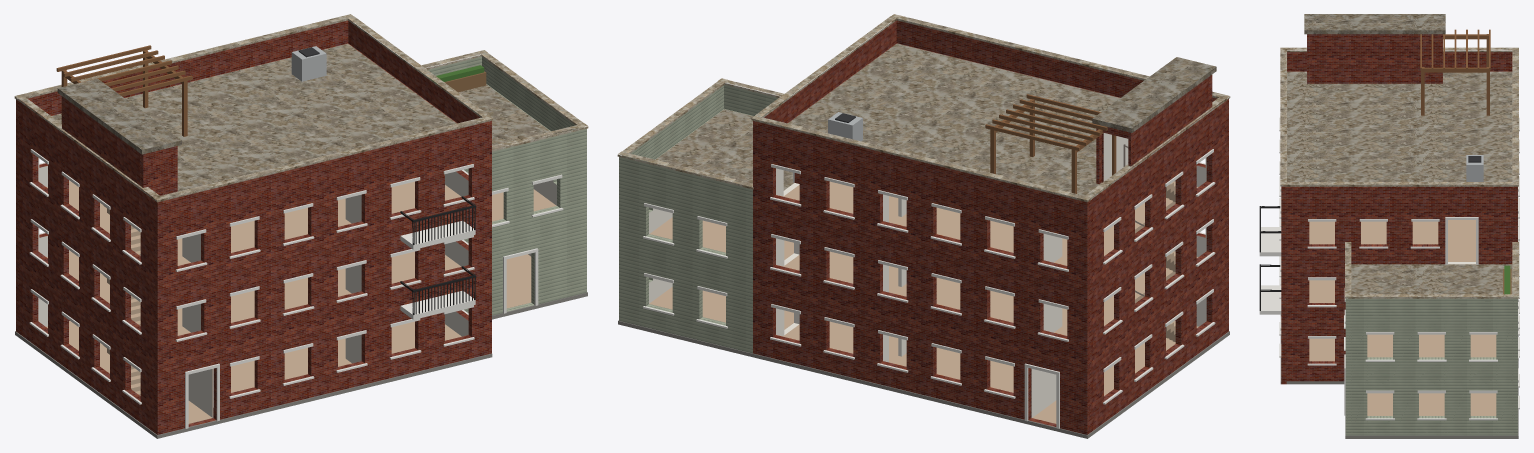
The model's file is ns-garden-apartments.towns-v2.lod0.glb.
3 renders of one model, left to right at view 1: azimuth 30°, elevation 25°; view 2: azimuth 150°, elevation 25°; view 3: azimuth 270°, elevation 25°, orthographic. The views are drawn at different scales.
Visible parts, largest first — view 1: ns-garden-apartments; view 2: ns-garden-apartments; view 3: ns-garden-apartments.
Part boxes in pixels (<box>): ns-garden-apartments: <box>14,14,588,438</box>; ns-garden-apartments: <box>617,14,1230,438</box>; ns-garden-apartments: <box>1259,14,1519,438</box>.
Bounding box in the file's own units: 21.18 × 11.96 × 12.12.
Materials: 6 (3 with a texture image).
